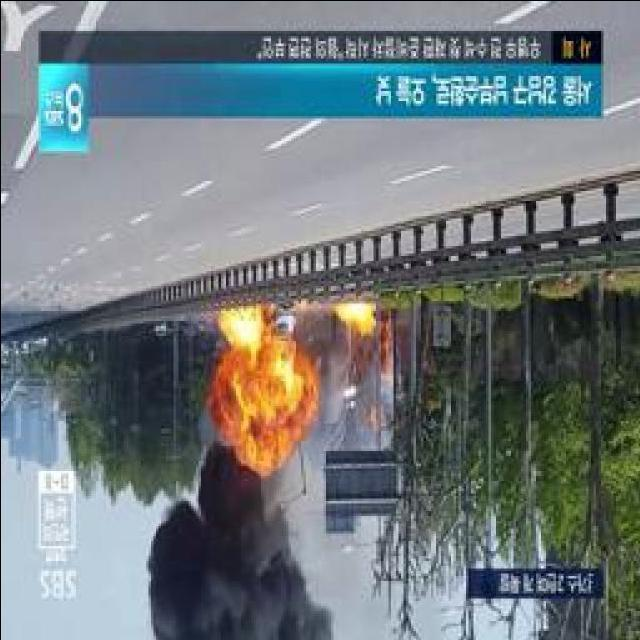Fire: (212, 348, 314, 424), (233, 424, 296, 464), (212, 308, 270, 344), (330, 302, 372, 334)
